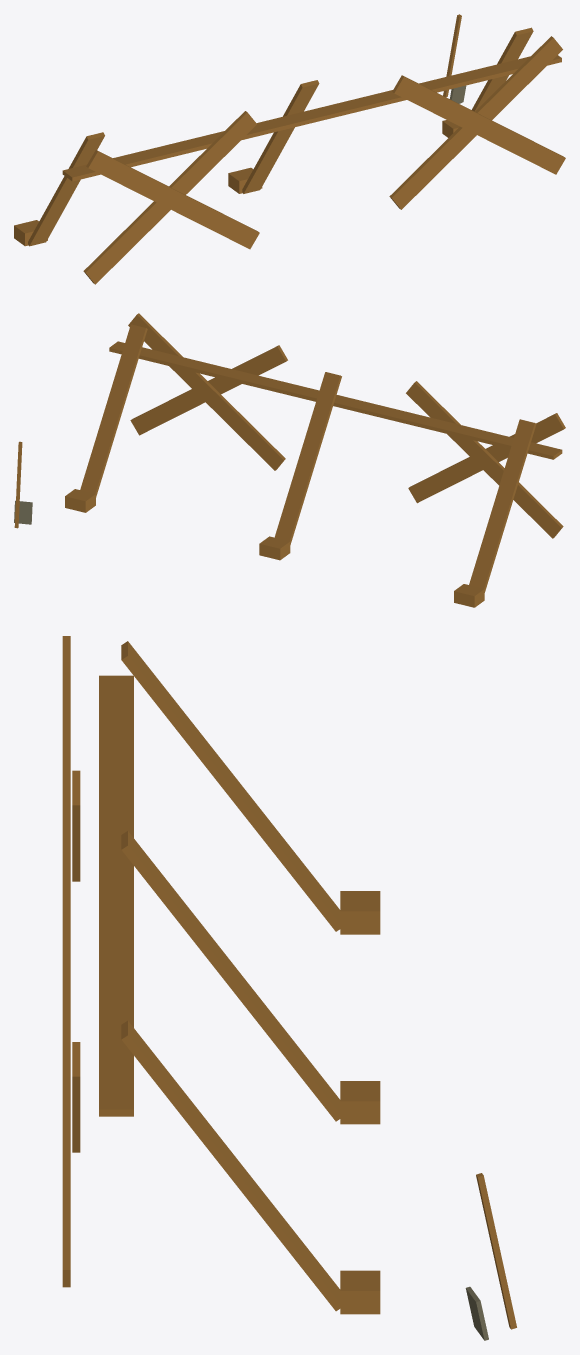
Rendered from SM_ObraPuertaApuntalada_v3_8m_LOD0.fbx.
3 views of the same model, one above another, from view 1: azimuth 30°, elevation 25°; view 2: azimuth 150°, elevation 25°; view 3: azimuth 270°, elevation 25° (orthographic). The views are drawn at different scales.
Parts seen in each view (by area): view 1: SM_obra_curso_v36_LOD0; view 2: SM_obra_curso_v36_LOD0; view 3: SM_obra_curso_v36_LOD0.
Part boxes in pixels (x1,y1,x2,y2): SM_obra_curso_v36_LOD0: [14, 14, 565, 284]; SM_obra_curso_v36_LOD0: [14, 313, 565, 607]; SM_obra_curso_v36_LOD0: [62, 636, 516, 1340].
Bounding box in the file's own units: 6.52 × 1.92 × 2.83.
